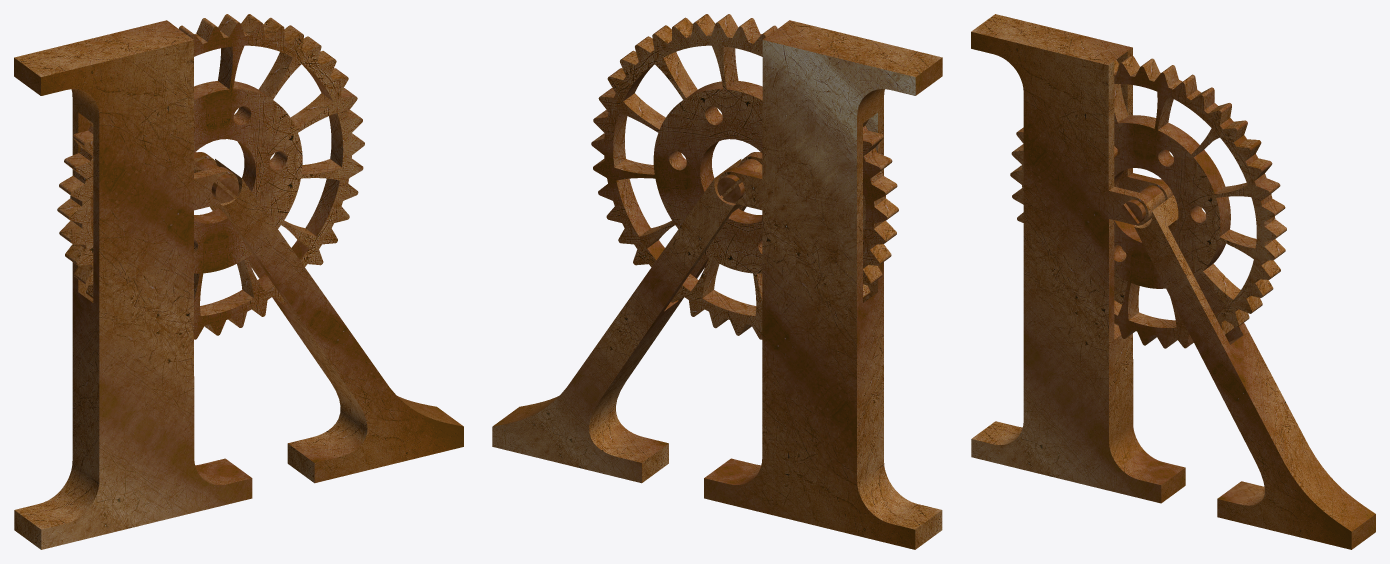
The picture shows the model from 3 angles, left to right: view 1: azimuth 30°, elevation 25°; view 2: azimuth 150°, elevation 25°; view 3: azimuth 330°, elevation 25°; orthographic projection. The views are drawn at different scales.
Parts seen in each view (by area): view 1: R, Cogwheel_230; view 2: R, Cogwheel_230; view 3: R, Cogwheel_230, Screw_797.
Part boxes in pixels (x1,y1,x2,y2): R: [14, 20, 463, 549]; Cogwheel_230: [57, 14, 364, 339]; R: [492, 20, 942, 549]; Cogwheel_230: [591, 14, 898, 339]; R: [971, 14, 1375, 549]; Cogwheel_230: [1010, 55, 1286, 348]; Screw_797: [1121, 179, 1173, 224].
Bounding box in the file's own units: 90.65 × 96.93 × 12.89.
Materials: 1 (1 with a texture image).
